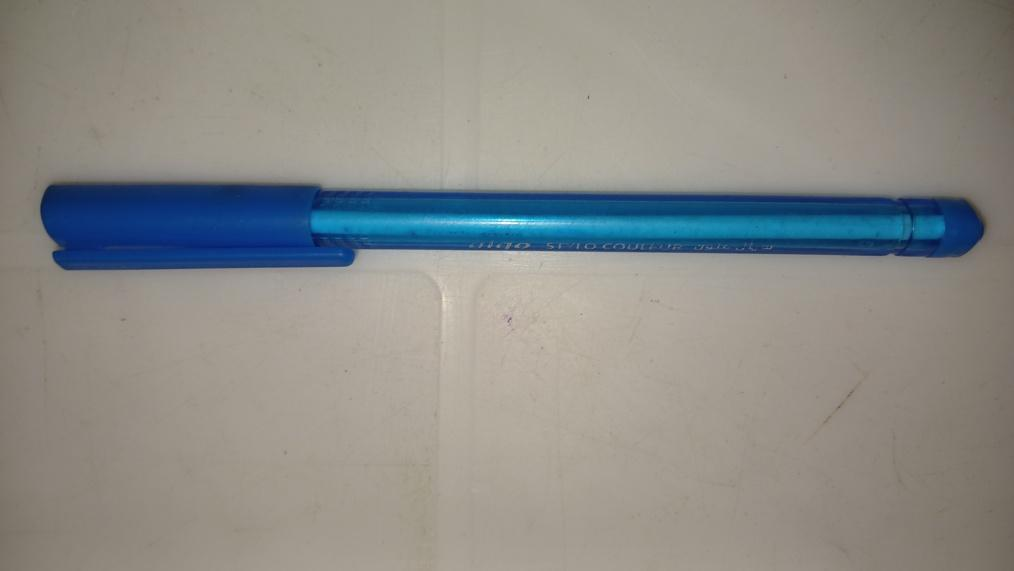pen: (42, 182, 989, 272)
